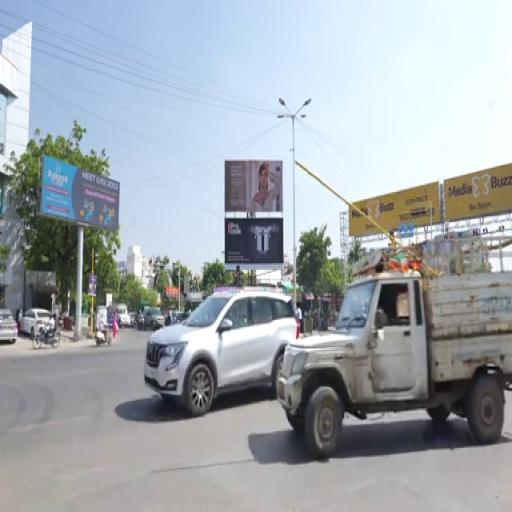Car: (144, 291, 299, 416), (20, 308, 51, 339), (0, 308, 17, 344), (144, 308, 164, 329)
